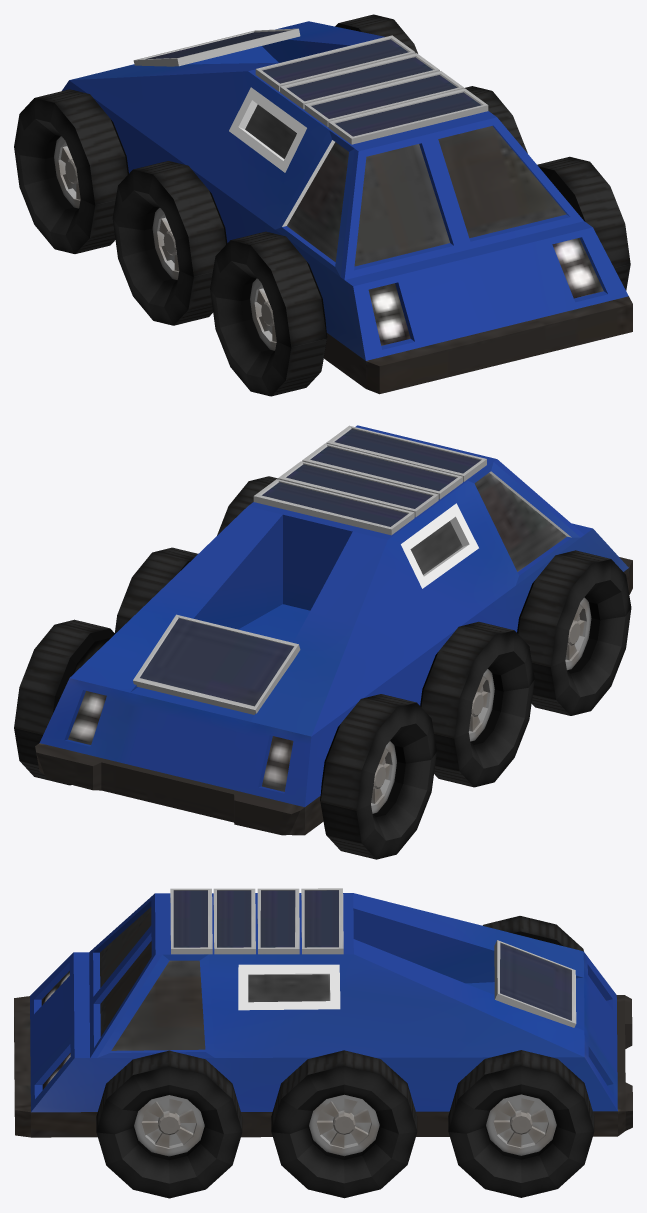
The model's file is Truck06.fbx.
The picture shows the model from 3 angles, top to bottom: view 1: azimuth 30°, elevation 25°; view 2: azimuth 150°, elevation 25°; view 3: azimuth 270°, elevation 25°; orthographic projection. The views are drawn at different scales.
Visible parts, largest first — view 1: Truck.006; view 2: Truck.006; view 3: Truck.006.
Boxes of the visible parts, box(x1,y1,x2,y2) form: Truck.006: box(14, 14, 632, 396); Truck.006: box(14, 425, 632, 859); Truck.006: box(14, 888, 632, 1198).
Size of the model in its own units: 365 by 226 by 619.
